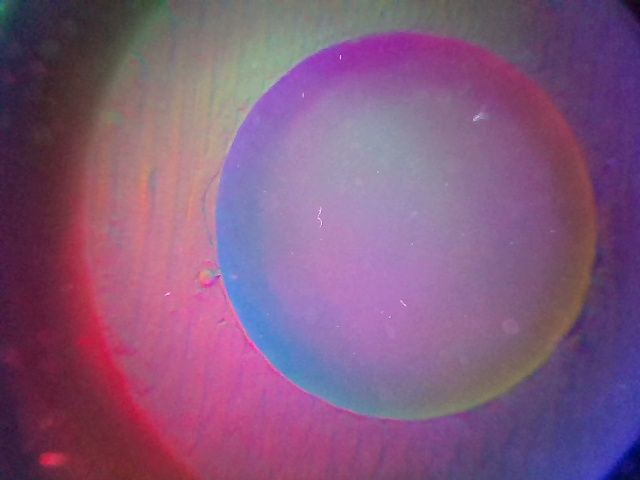contact: (216, 33, 597, 419)
